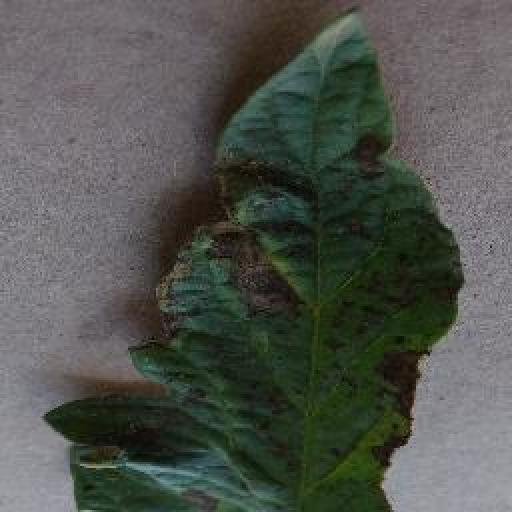Early Blight: (50, 6, 464, 512)
